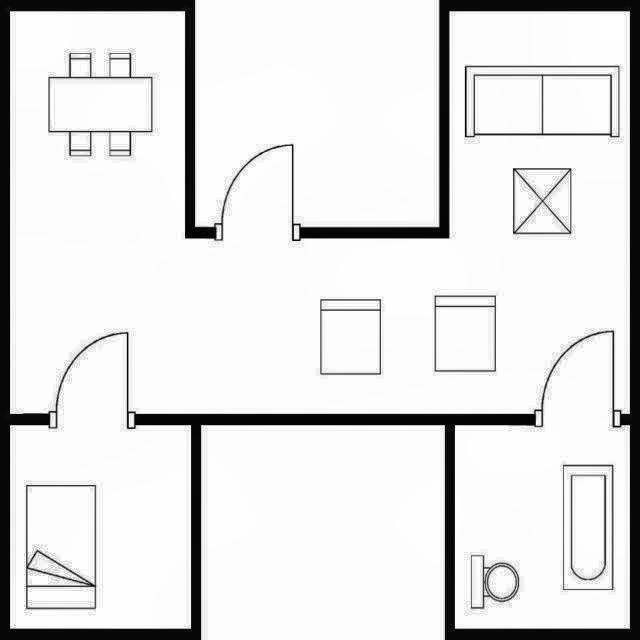room: (9, 11, 631, 414), (10, 425, 191, 629), (455, 424, 630, 629)
